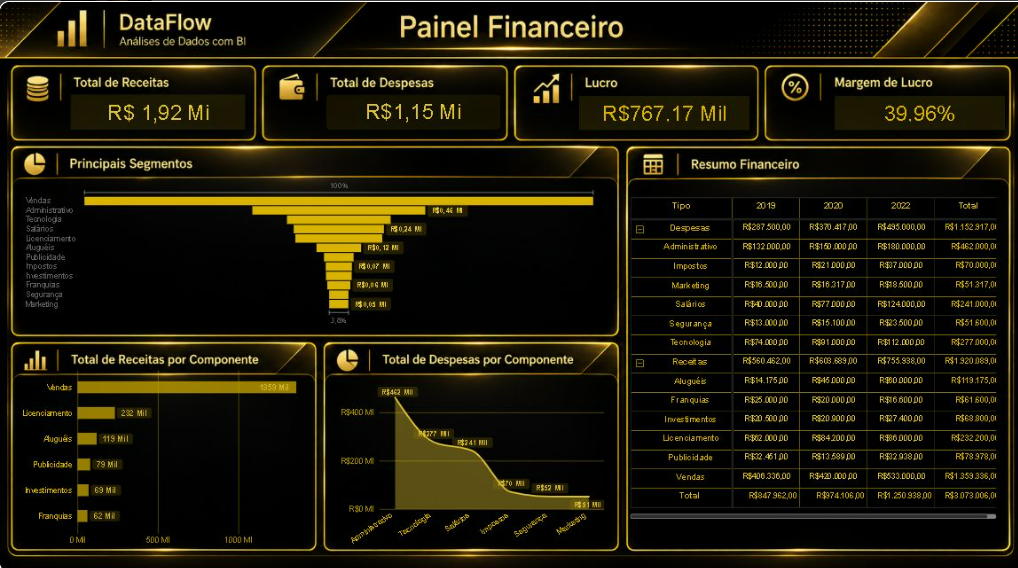

This screenshot's page, from the dashboard's own definition file:
{"tool":"powerbi","page":{"name":"Analise Financeira","canvas":[1920,1080],"ordinal":0},"visuals":[{"type":"cardVisual","fields":{"Data":["Medidas.Total Receita"]},"box":[96,160,400,96],"z":0},{"type":"clusteredBarChart","fields":{"Category":["f_Finaças.Componente"],"Y":["Medidas.Total Receitas"]},"box":[16,672,656,368],"z":2000},{"type":"areaChart","fields":{"Category":["f_Finaças.Componente"],"Y":["Medidas.Custos"]},"box":[624,704,528,352],"z":3000},{"type":"pivotTable","fields":{"Columns":["D_Calendario.Ano"],"Rows":["f_Finaças.Tipo","f_Finaças.Componente"],"Values":["Sum(f_Finaças.Valor)"]},"box":[1168,352,720,640],"z":4000},{"type":"cardVisual","fields":{"Data":["Medidas.Despesas"]},"box":[576,160,400,96],"z":5000},{"type":"card","fields":{"Values":["Medidas.Lucro"]},"box":[1088,176,320,64],"z":5001},{"type":"card","fields":{"Values":["Medidas.Margem de Lucro"]},"box":[1568,176,320,64],"z":5002},{"type":"funnel","fields":{"Category":["f_Finaças.Componente","f_Finaças.Tipo"],"Y":["Sum(f_Finaças.Valor)"]},"box":[32,320,1104,304],"z":5003}]}

Visuals, with their boxes in screenshot pixels (x1, y1, x2, y2), scaled from the page's 1920x1080 canvas onto the 1018x568 screenshot:
cardVisual - Medidas.Total Receita: (x1=51, y1=84, x2=263, y2=135)
clusteredBarChart - f_Finaças.Componente x Medidas.Total Receitas: (x1=8, y1=353, x2=356, y2=547)
areaChart - f_Finaças.Componente x Medidas.Custos: (x1=331, y1=370, x2=611, y2=555)
pivotTable - D_Calendario.Ano x f_Finaças.Tipo: (x1=619, y1=185, x2=1001, y2=522)
cardVisual - Medidas.Despesas: (x1=305, y1=84, x2=517, y2=135)
card - Medidas.Lucro: (x1=577, y1=93, x2=747, y2=126)
card - Medidas.Margem de Lucro: (x1=831, y1=93, x2=1001, y2=126)
funnel - f_Finaças.Componente x f_Finaças.Tipo: (x1=17, y1=168, x2=602, y2=328)
